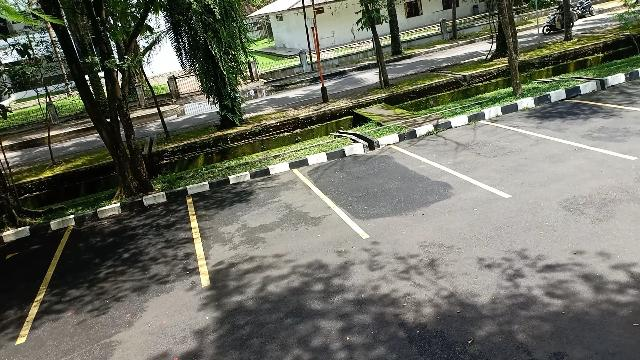empty: (49, 199, 199, 311), (196, 170, 328, 282), (324, 144, 458, 238), (438, 121, 558, 198), (552, 100, 640, 156)
